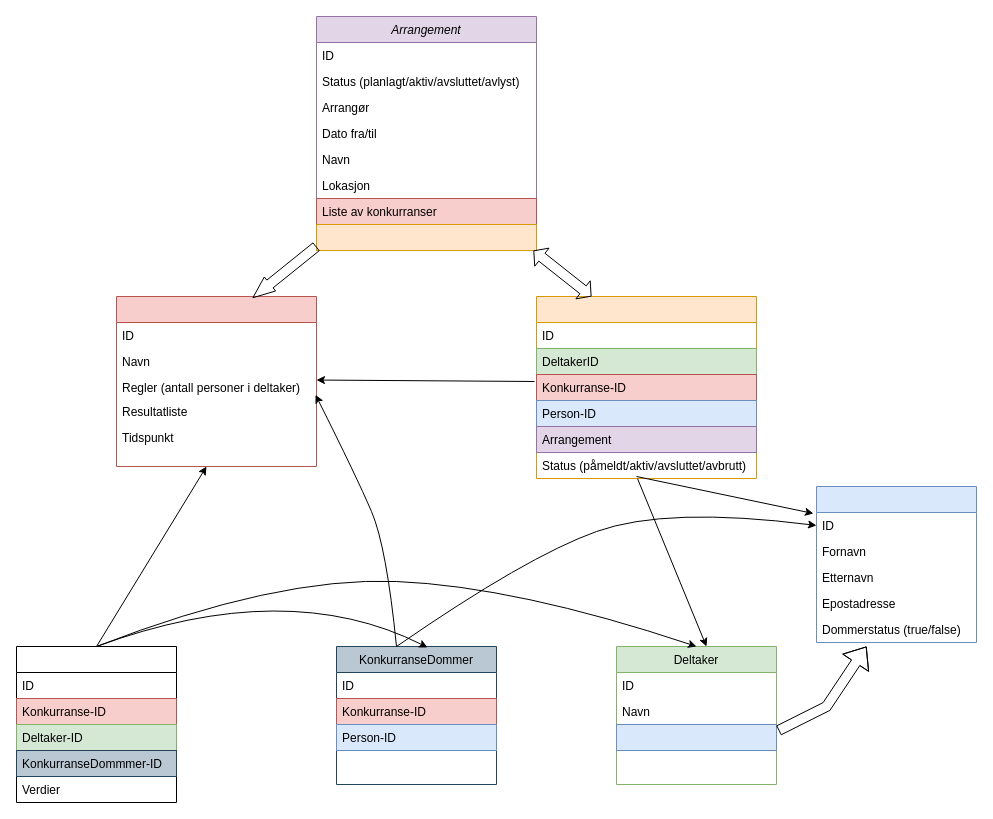
Image size: 993x819. Some labels were removed from this diagram. Here are the shapes that lost their labels. From the top down, the box of each, then its label:
(316, 224, 536, 250): Liste av deltakelser
(116, 296, 316, 466): Konkurranse
(536, 296, 756, 478): Deltakelse
(816, 486, 976, 642): Person
(16, 646, 176, 802): Score
(616, 724, 776, 750): Liste av personer
